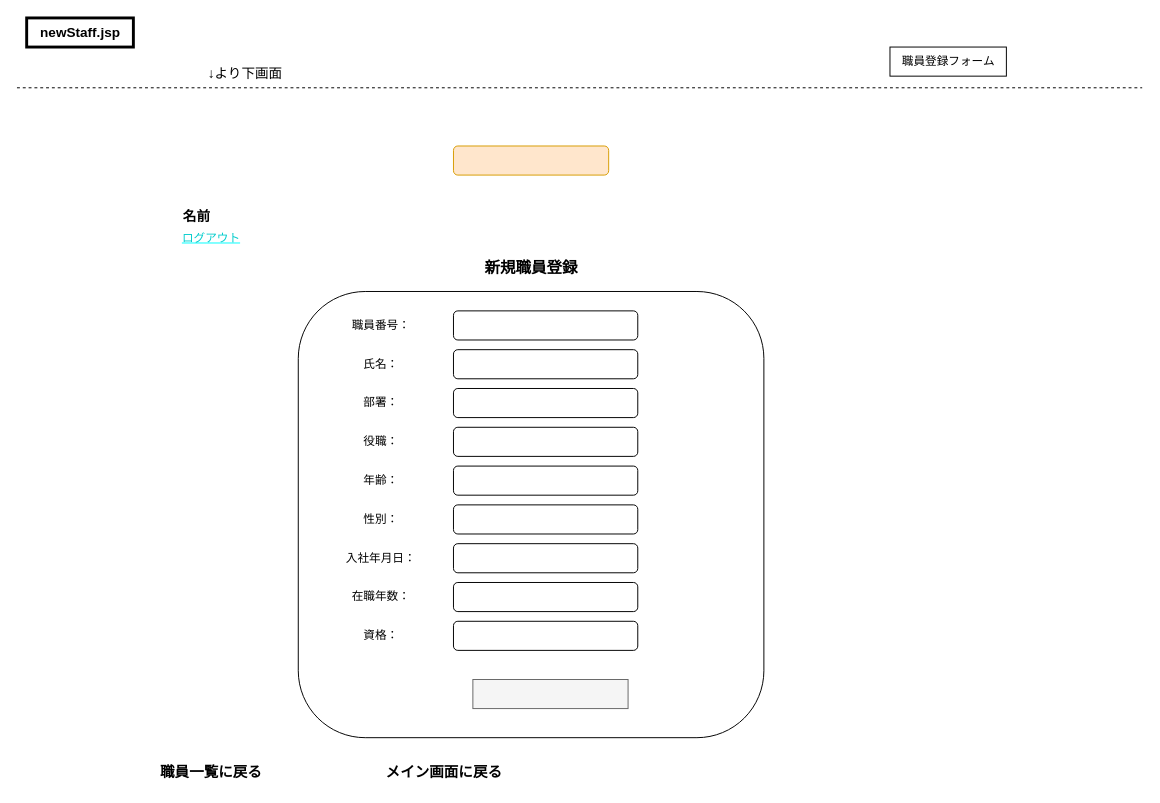
This 1160x803 diagram has some shape labels left out. The centre of each missing label's shape, as x and y in pixels:
"人事評価システム（仮）" belongs at (531,160).
"新規職員登録（ボタン）" belongs at (550,694).
